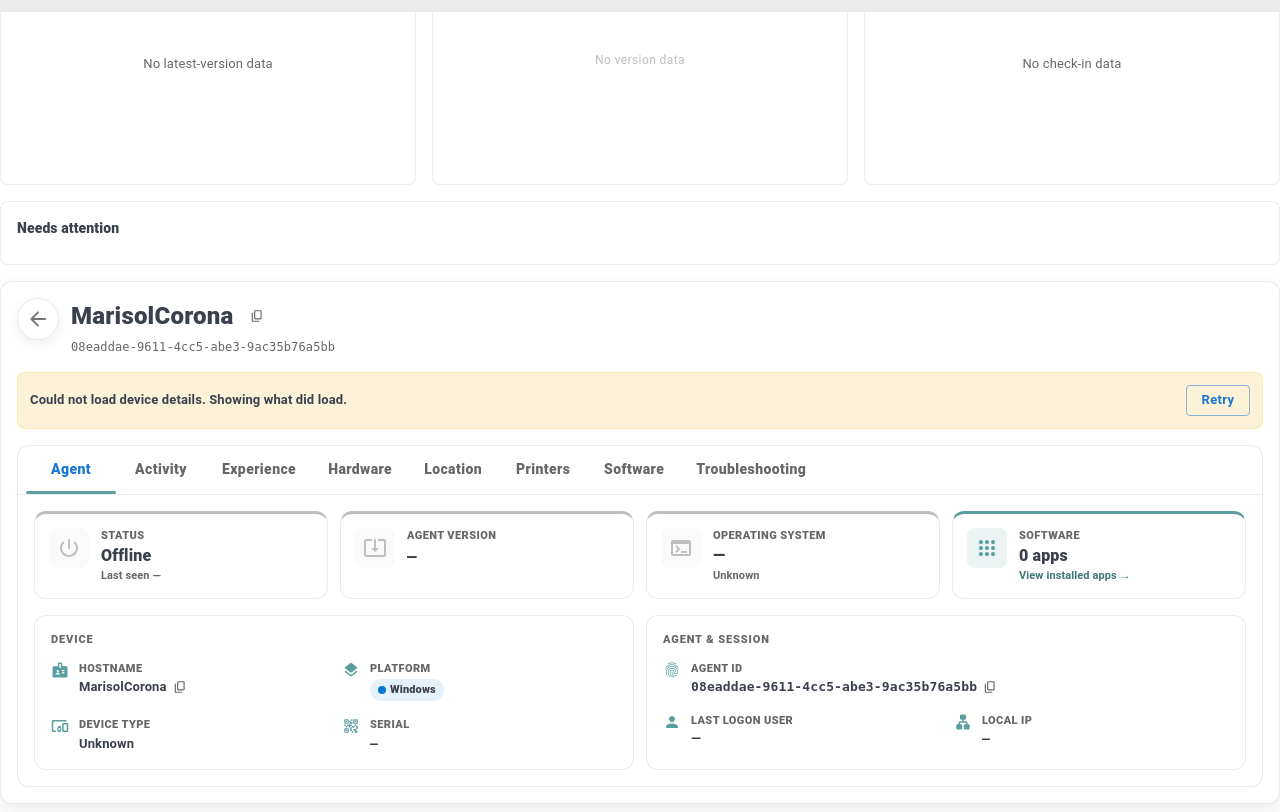
Test: Ficha abierta por ?device= — la cabecera › ⭐ prod 30-sep: detalle caído → el nombre sale del inventario de hardware; el aviso dice qué falta; Retry lo recupera
(page scrolled)
Expected: the message shows "Could not load device details. Showing what did load.", [17,372,1263,429]
What coordinates should you click on to do the following:
click the button "Retry"
I would click on:
 (1218, 400)
Its box is [1186,385,1250,416].
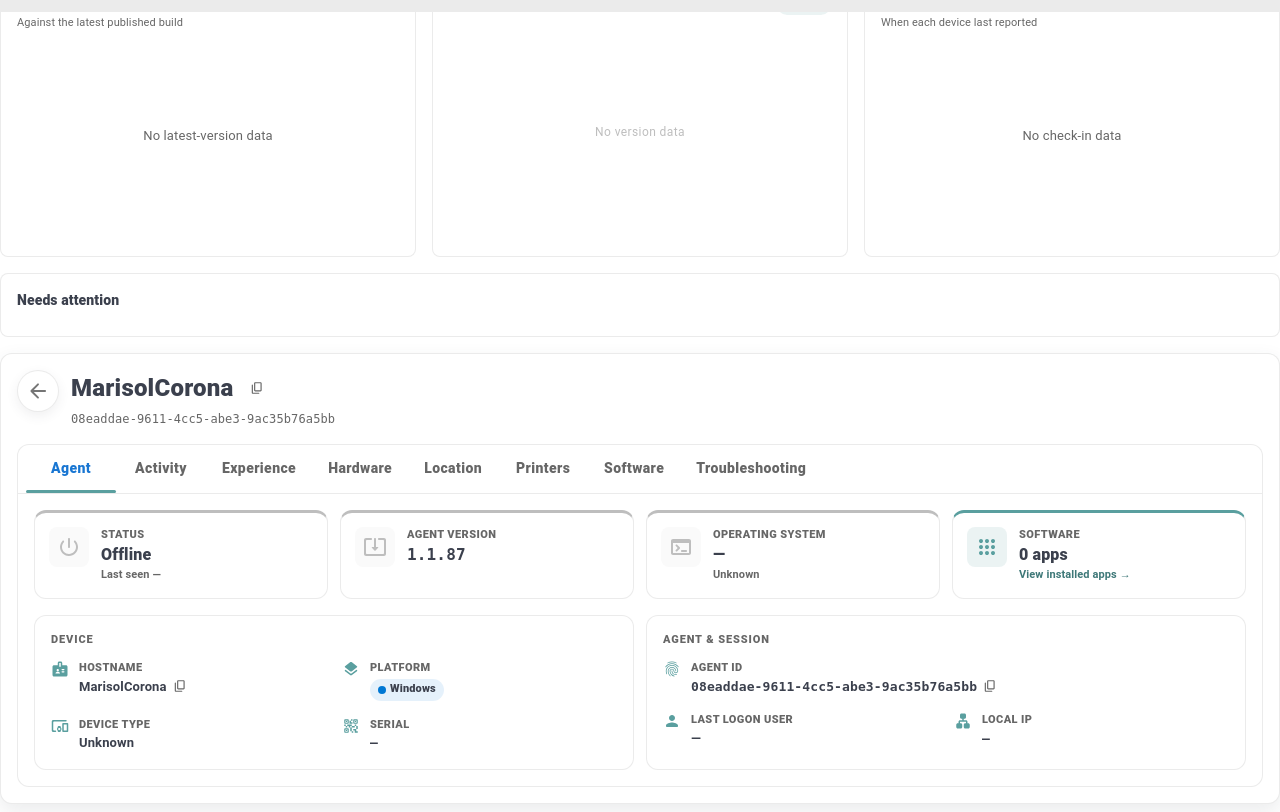
Expected: the message "Could not load device details. Showing what did load. Retry" is gone
